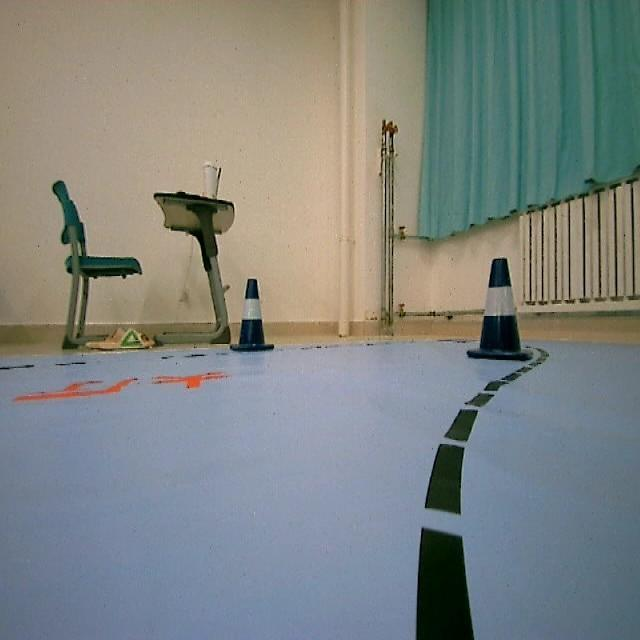obstacle: (472, 252, 524, 360), (236, 276, 271, 350)
